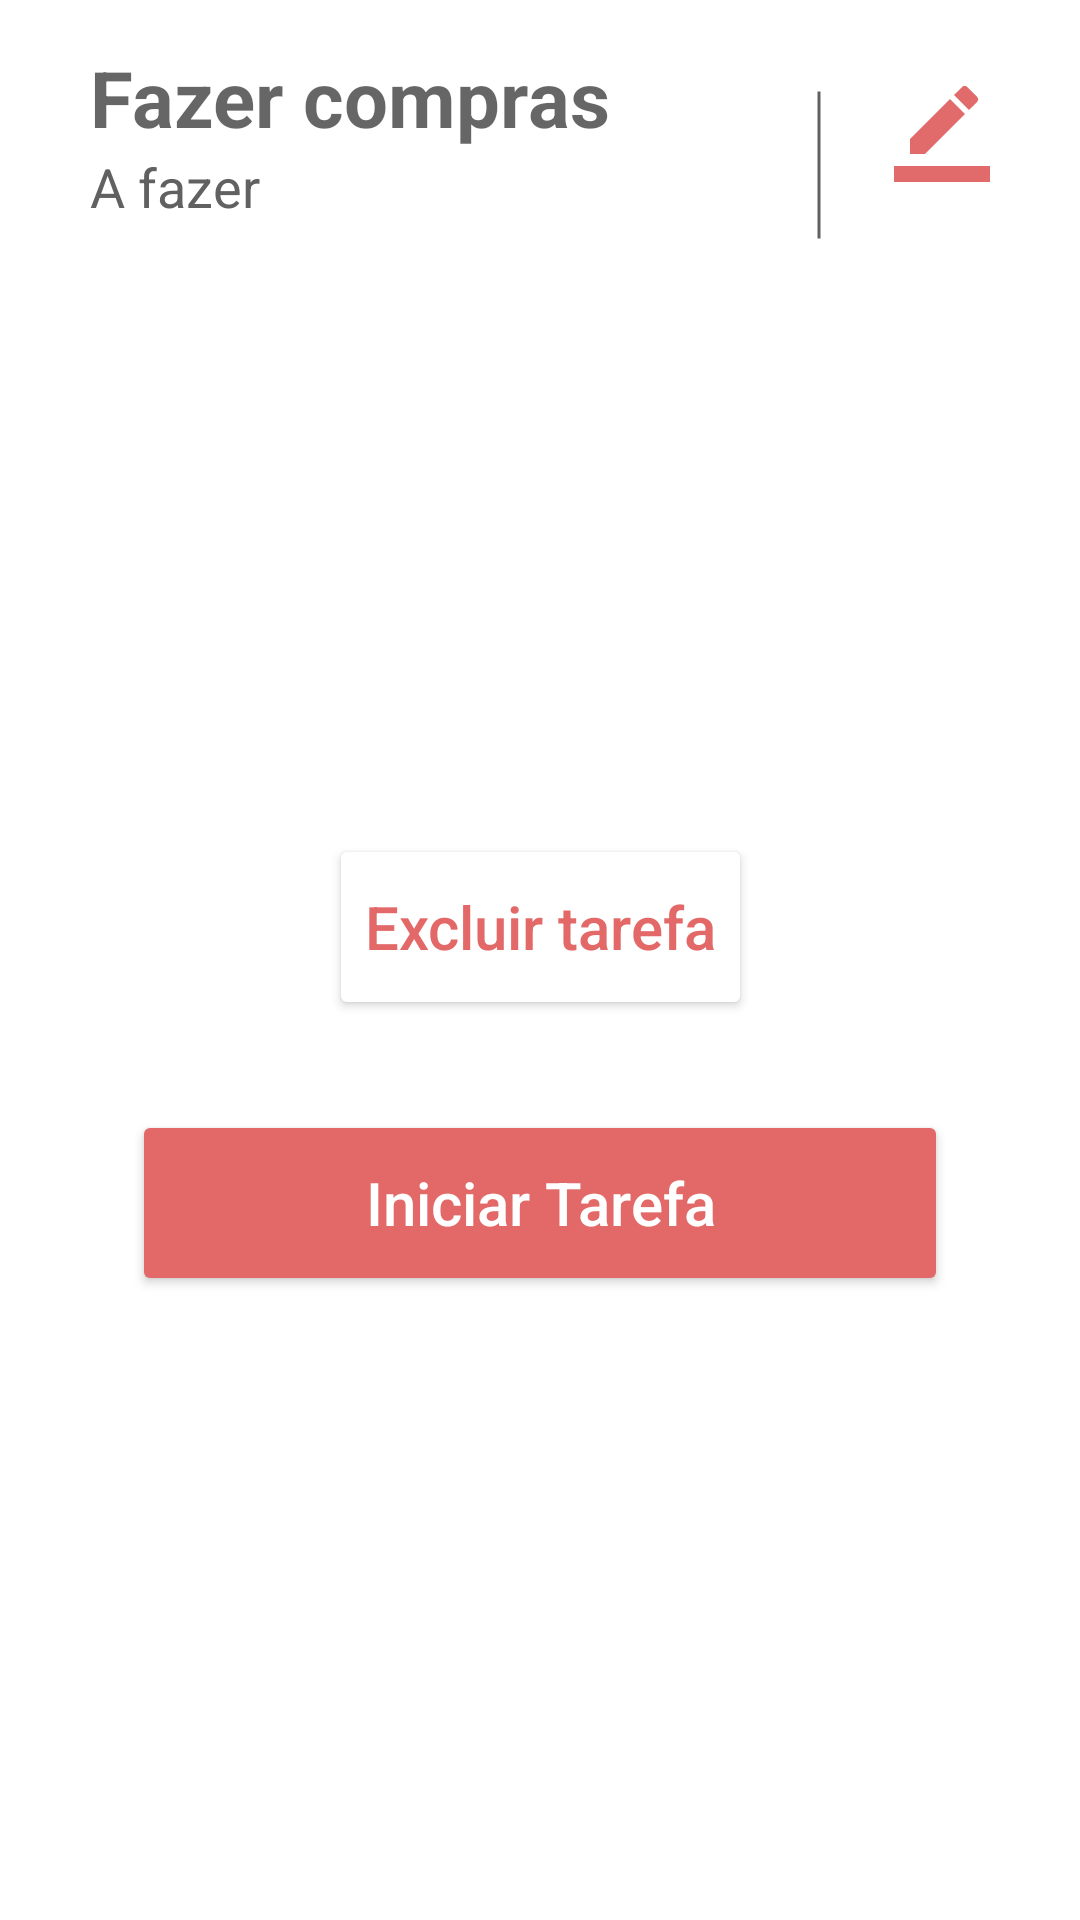

Where icons sit on this 1080x1920 app screen, as (x1, y1, x2, y2):
editar: (894, 86, 990, 182)
